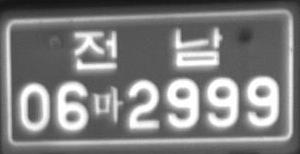0: (19, 80, 50, 132)
2: (128, 77, 160, 130)
6: (56, 79, 89, 131)
9: (167, 76, 200, 129), (246, 76, 280, 126), (207, 75, 239, 128)
마: (92, 85, 123, 124)
전남_D: (73, 25, 223, 70)
